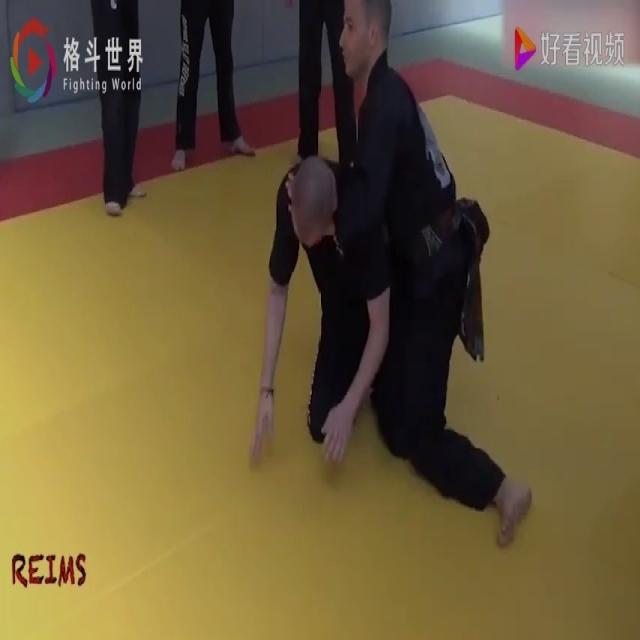fight: (261, 0, 517, 544)
